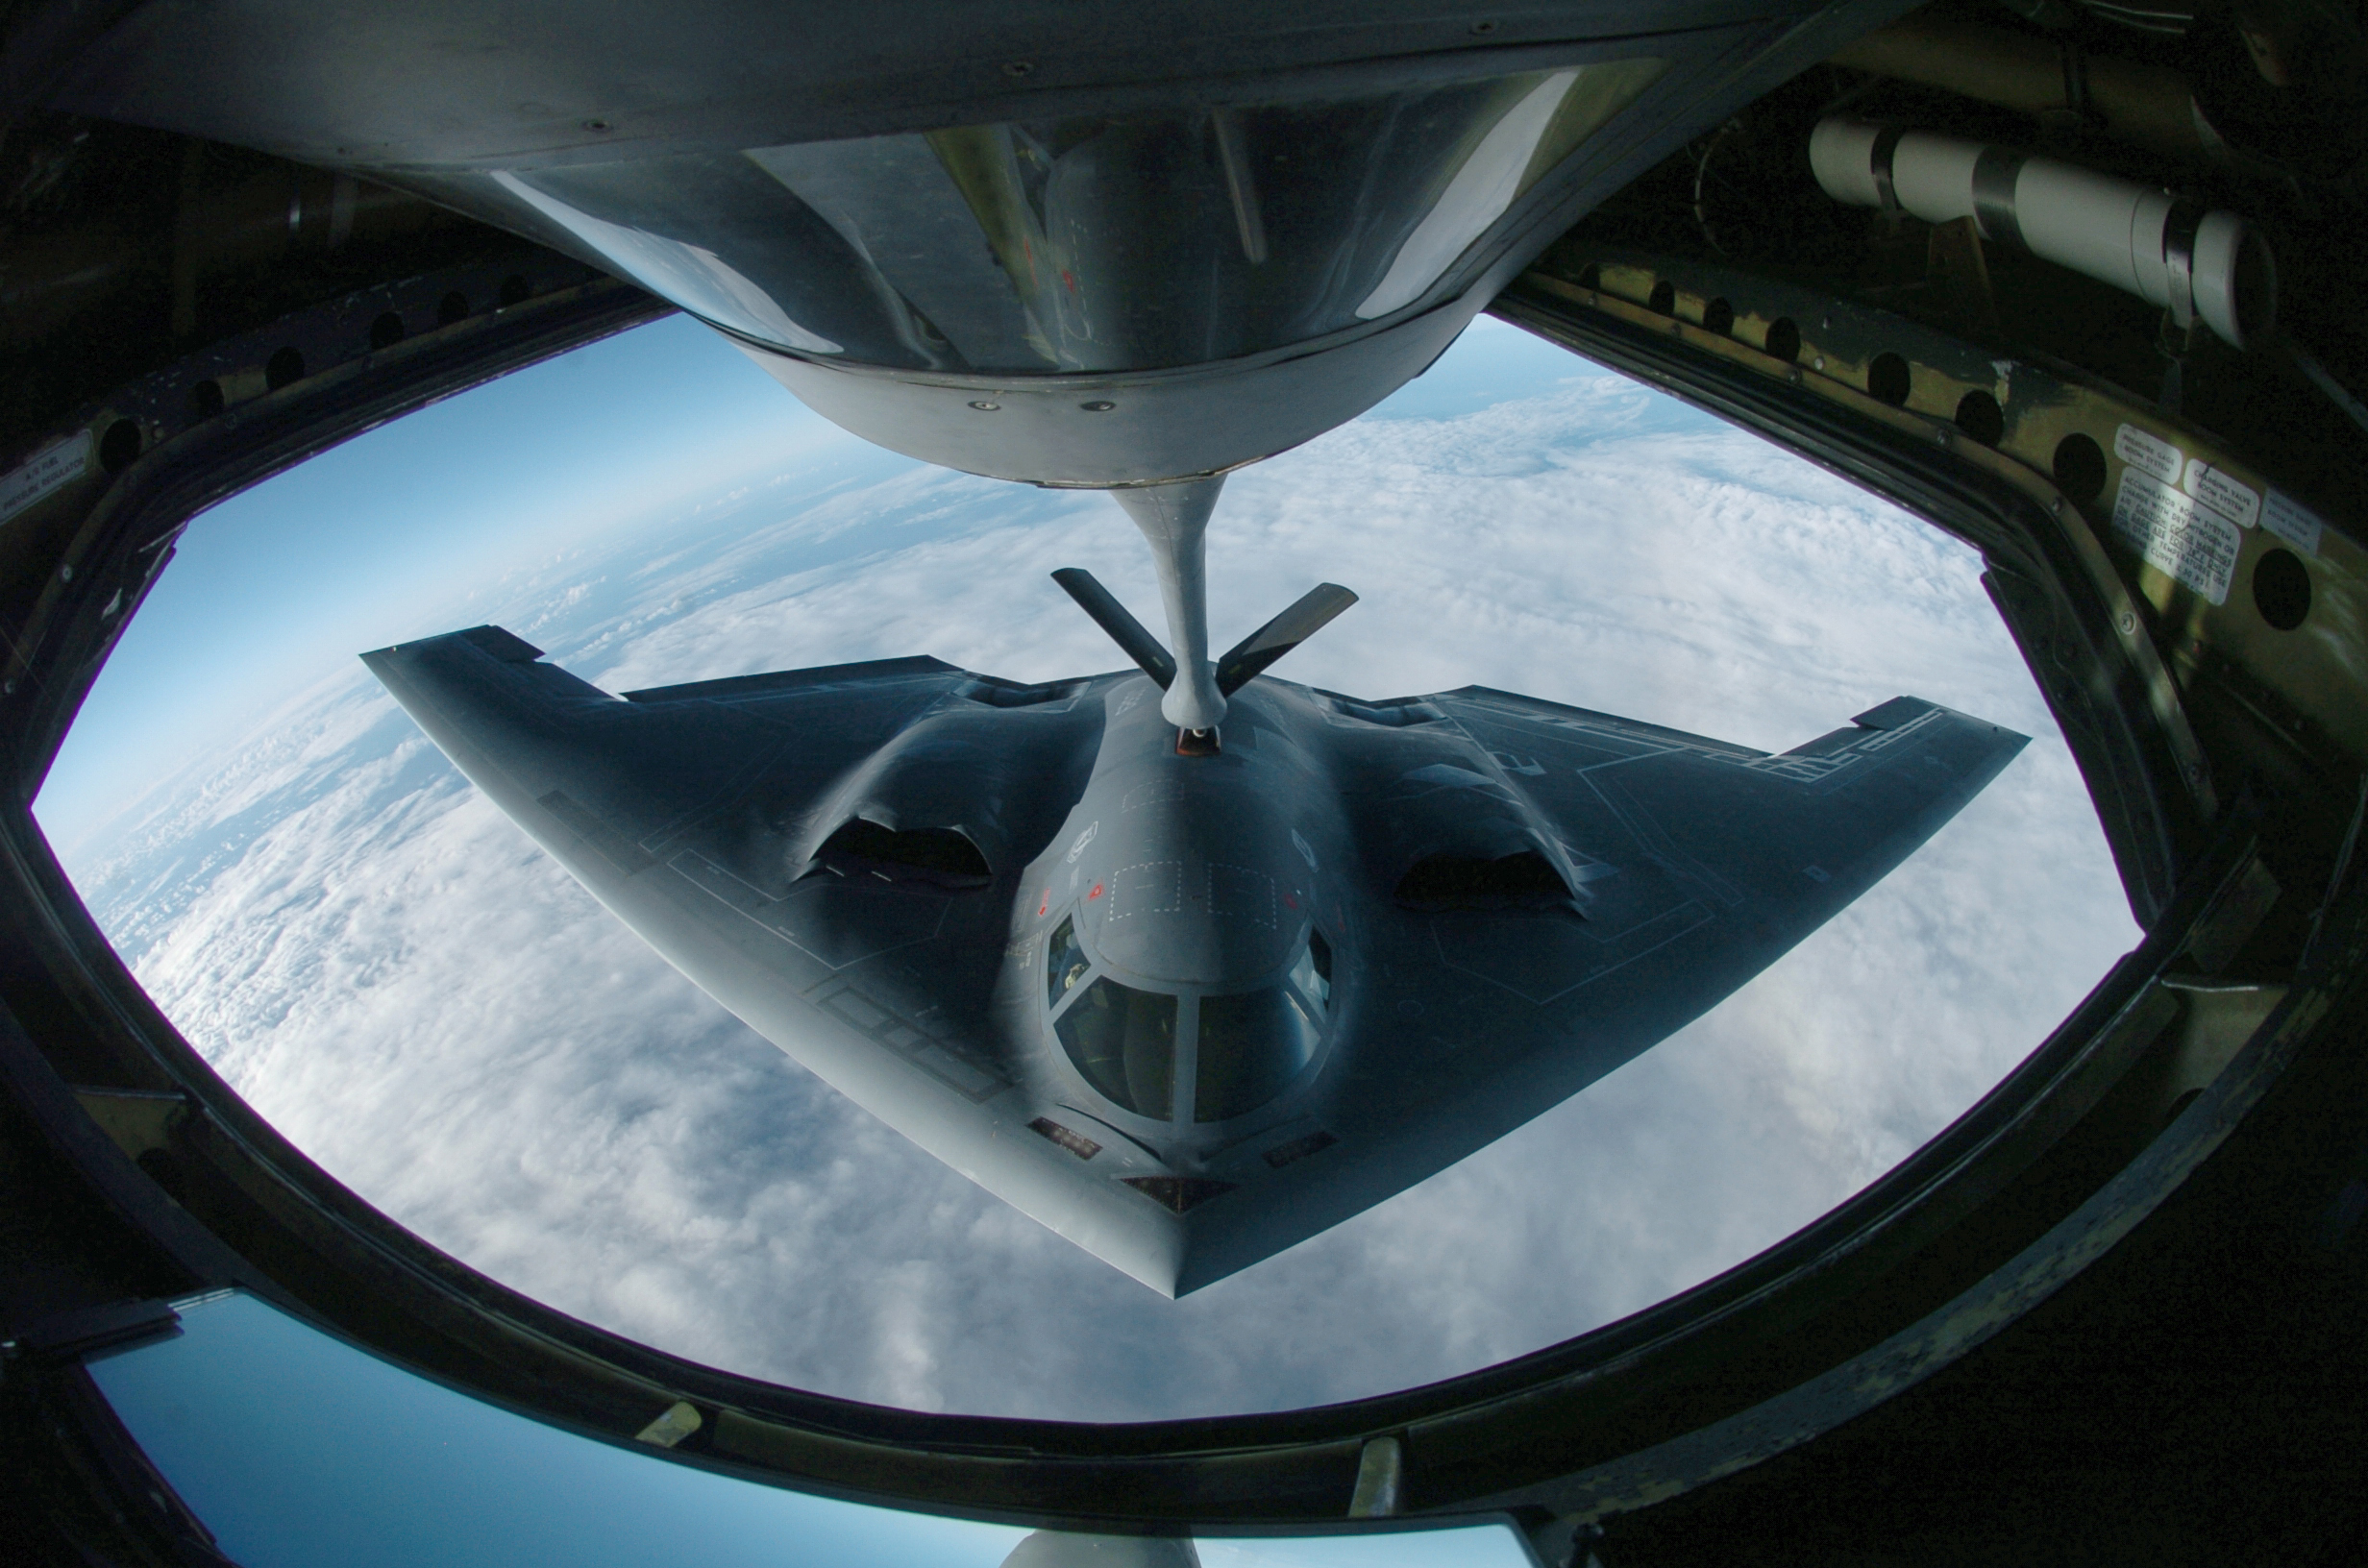B2: (357, 623, 2034, 1302)
